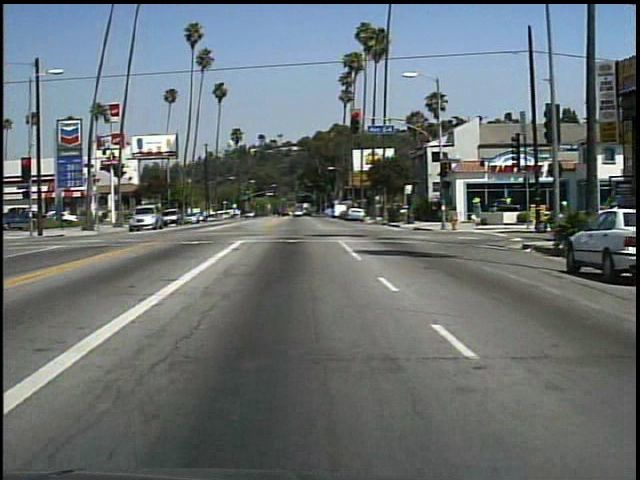person: (549, 194, 574, 235), (469, 193, 485, 227)
